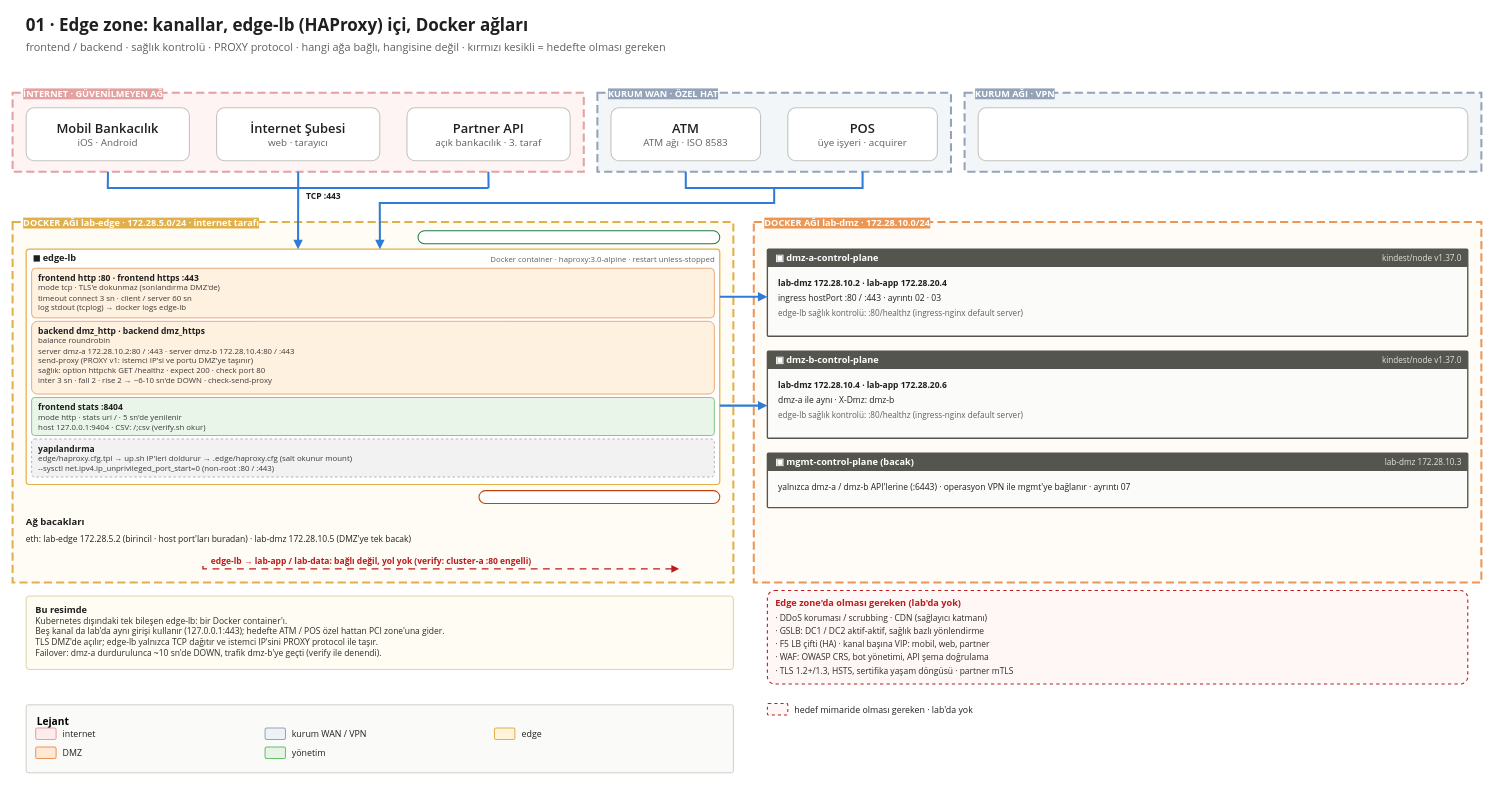
This 1494x785 diagram has some shape labels left out. The shapes that lost their labels are listed below. From the top down, each one's centre as x and y in pixels, then its label:
At point (1222, 134): "Operasyon ekibi VPN · kubectl · 127.0.0.1:9080 / 9443".
At point (568, 237): "⇥ in ← host 127.0.0.1:80 · :443 (müşteri) · :9404 (istatistik)".
At point (599, 497): "↦ out → dmz-a / dmz-b :80 · :443 (TCP + PROXY v1)".
